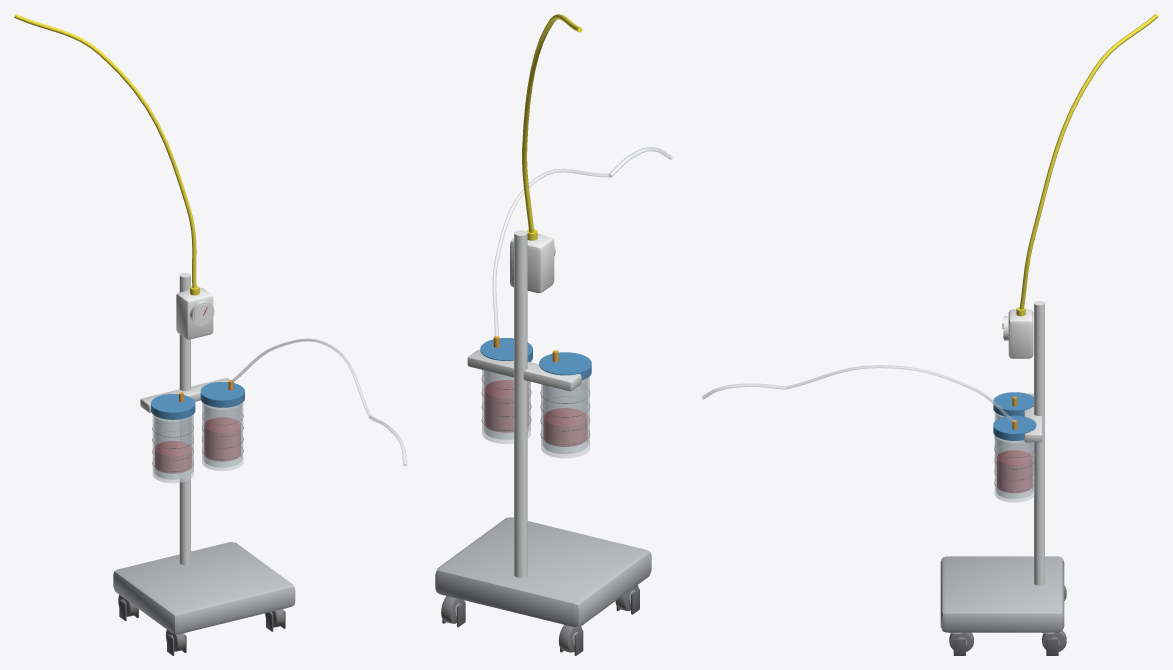
File: SuctionUnit.fbx
The picture shows the model from 3 angles, left to right: view 1: azimuth 30°, elevation 25°; view 2: azimuth 150°, elevation 25°; view 3: azimuth 270°, elevation 25°; orthographic projection. The views are drawn at different scales.
Visible parts, largest first — view 1: SuctionUnit_Mesh; view 2: SuctionUnit_Mesh; view 3: SuctionUnit_Mesh.
Boxes of the visible parts, x1,y1,x2,y2 form: SuctionUnit_Mesh: (14, 14, 406, 655); SuctionUnit_Mesh: (435, 14, 672, 655); SuctionUnit_Mesh: (701, 14, 1158, 655).
Bounding box in the file's own units: 0.6598 × 2.01 × 1.48.
